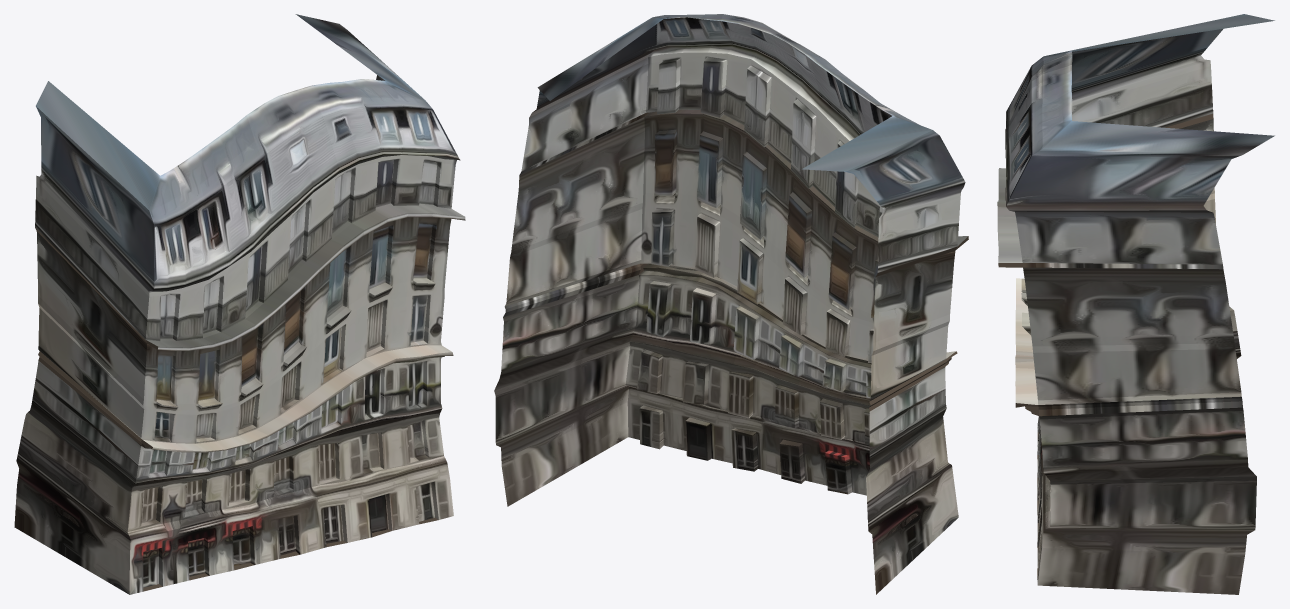
Rendered from House_2.fbx.
3 views of the same model, side by side, from view 1: azimuth 30°, elevation 25°; view 2: azimuth 150°, elevation 25°; view 3: azimuth 270°, elevation 25° (orthographic).
Parts seen in each view (by area): view 1: House_2; view 2: House_2; view 3: House_2.
Part boxes in pixels (box(x1,y1,x2,y2)): House_2: box(14, 14, 465, 594); House_2: box(494, 14, 968, 594); House_2: box(997, 14, 1274, 594).
Size of the model in its own units: 92.58 by 109 by 60.64.
